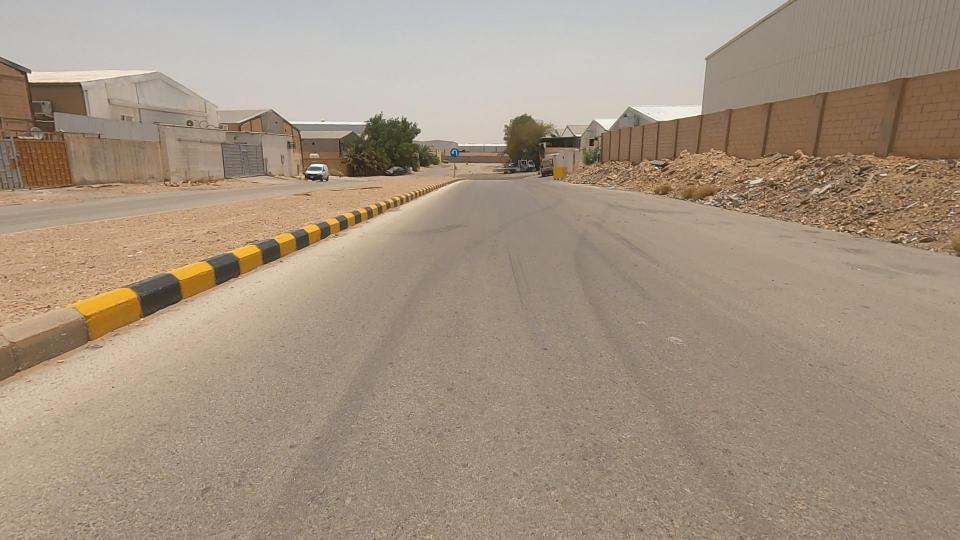CLUTTER_SIDEWALK: (0, 172, 388, 342), (250, 150, 465, 228)
GARBAGE: (708, 149, 805, 213)
SAND_ON_ROAD: (695, 112, 946, 261), (547, 128, 754, 222)
